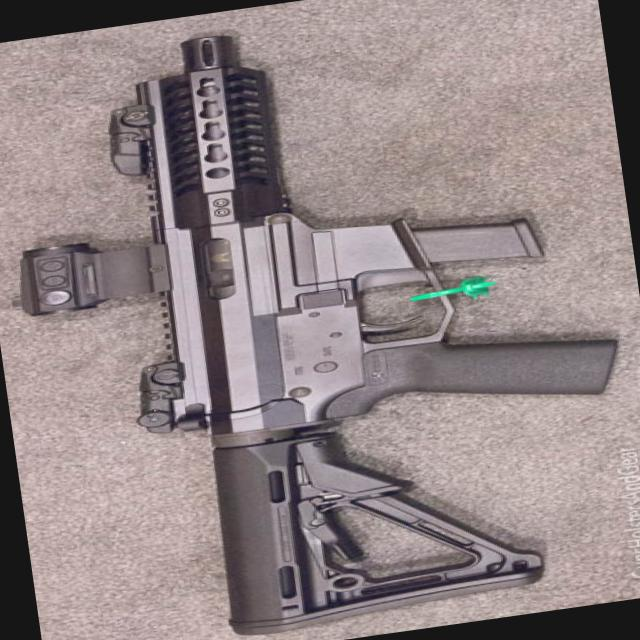handgun: (76, 0, 620, 469)
